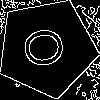O: (21, 23, 75, 71)
